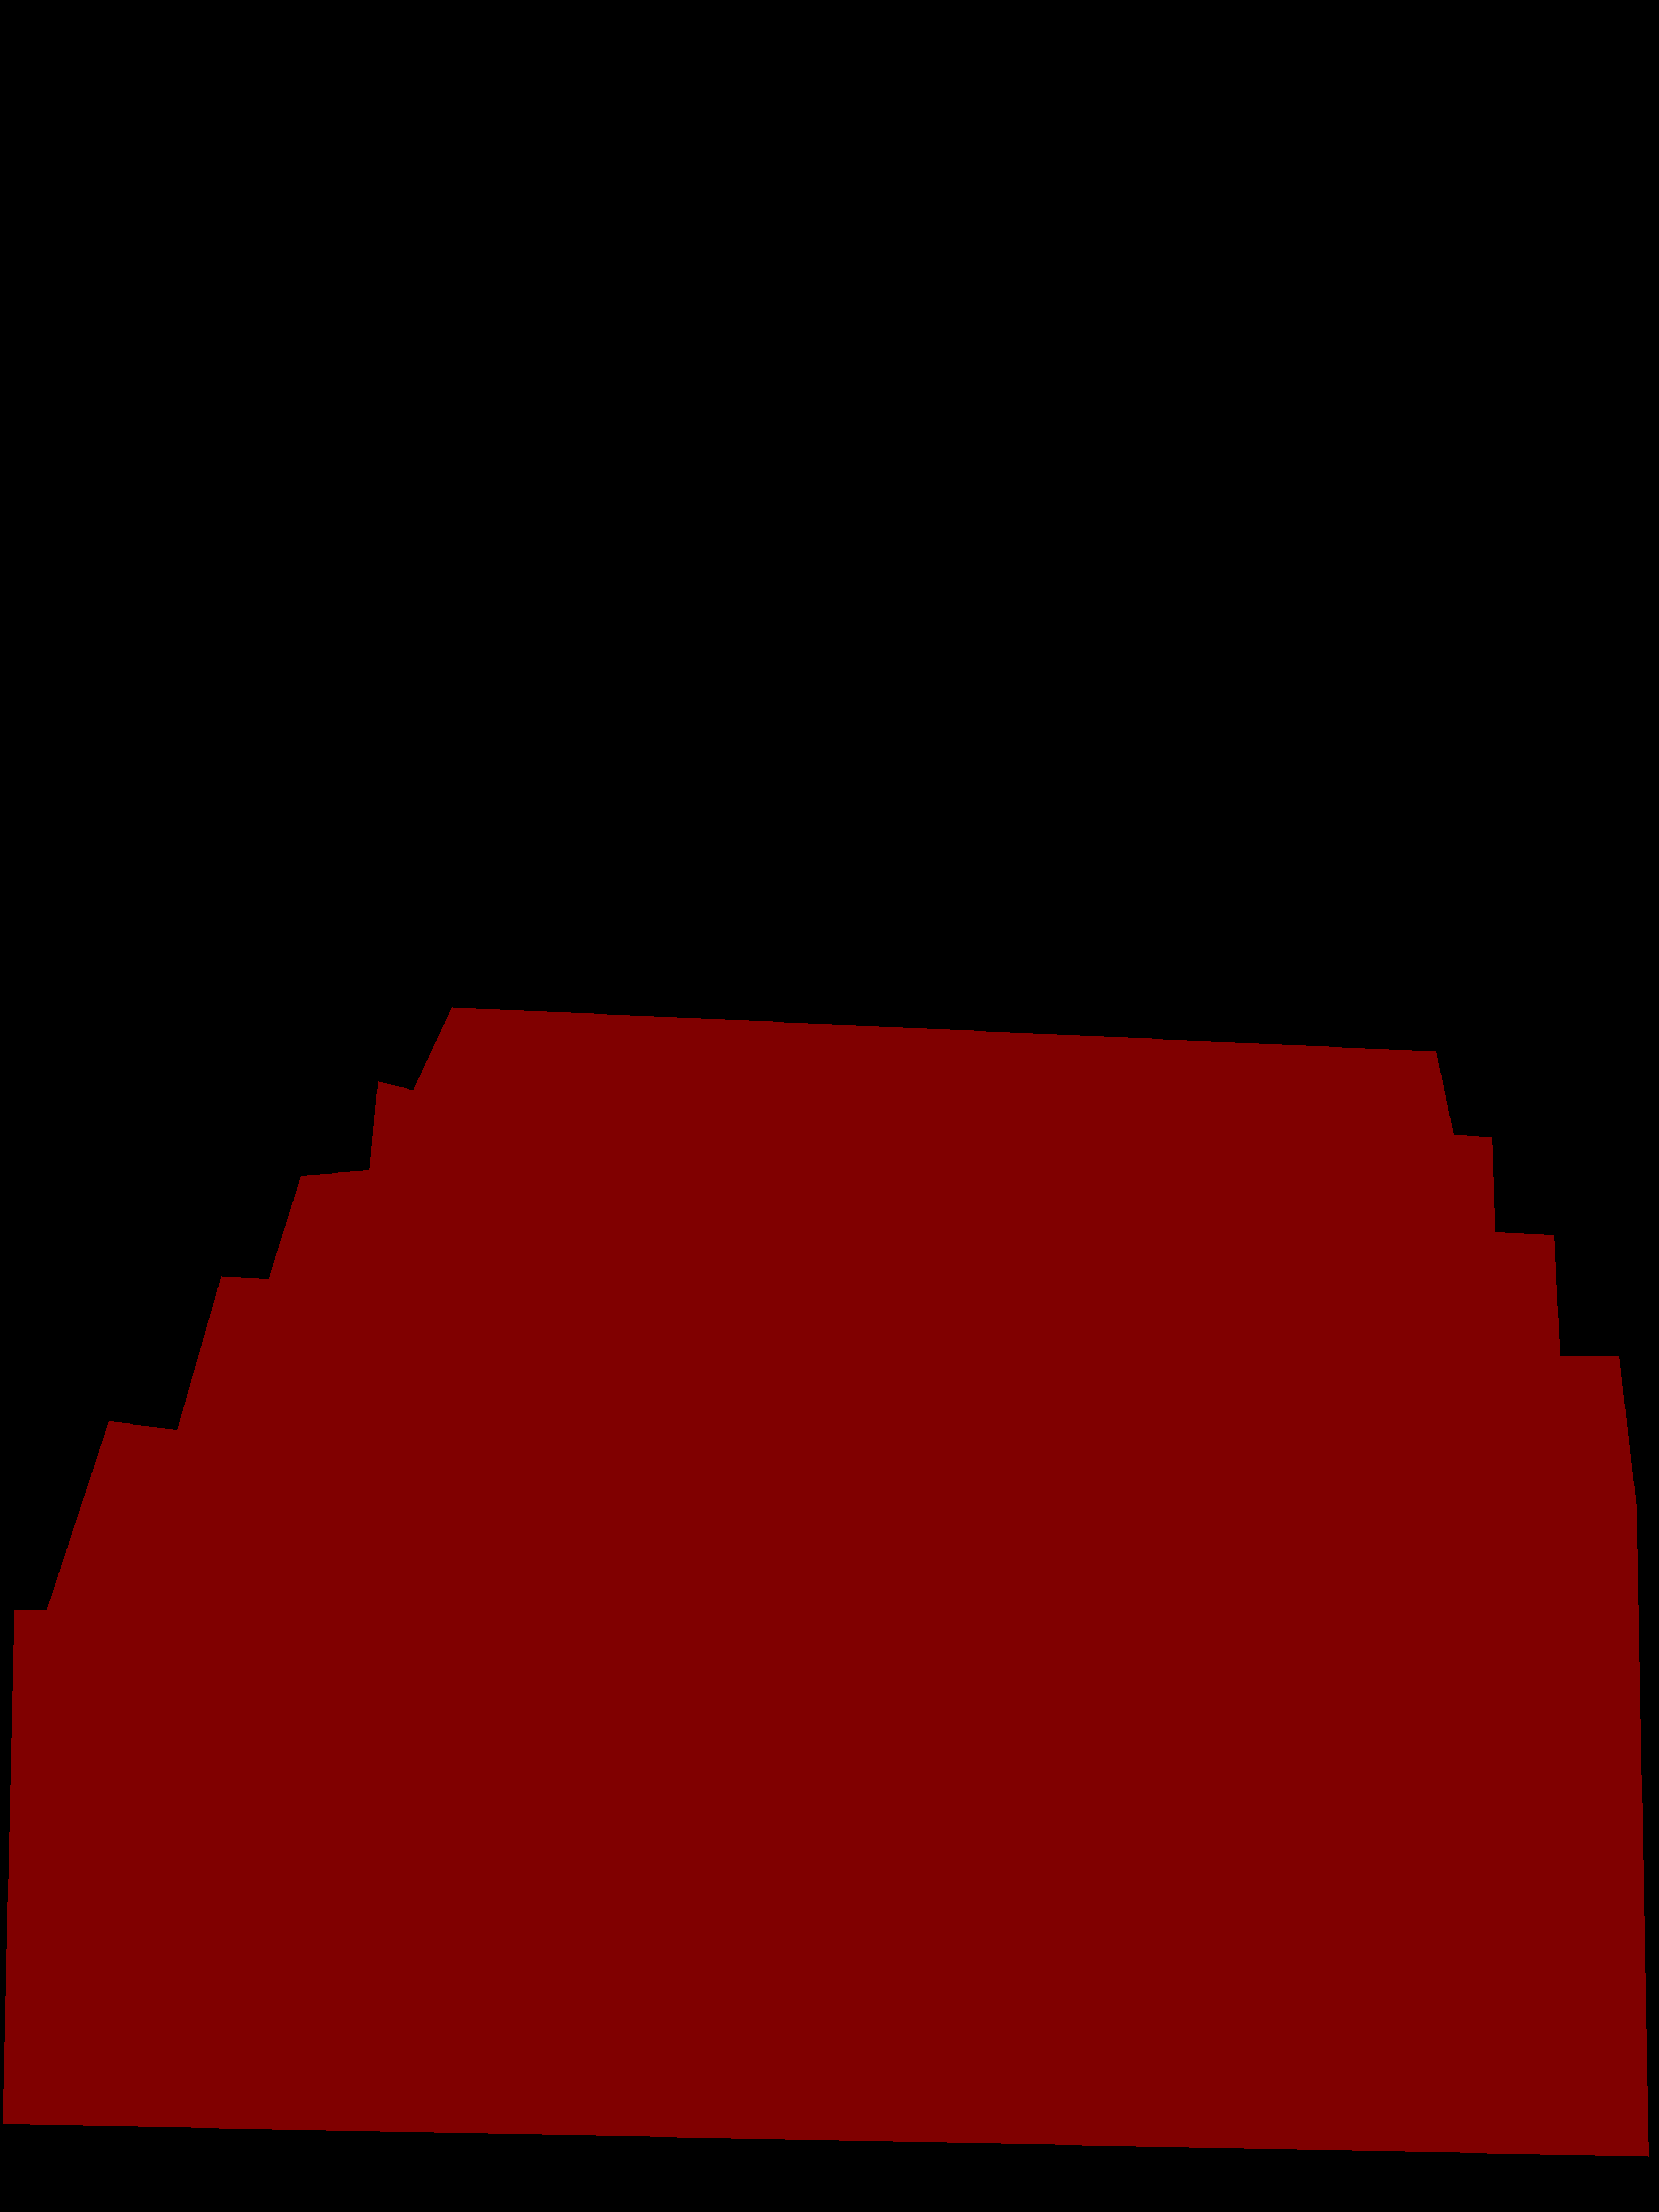stair: (3, 1007, 1649, 2156)
